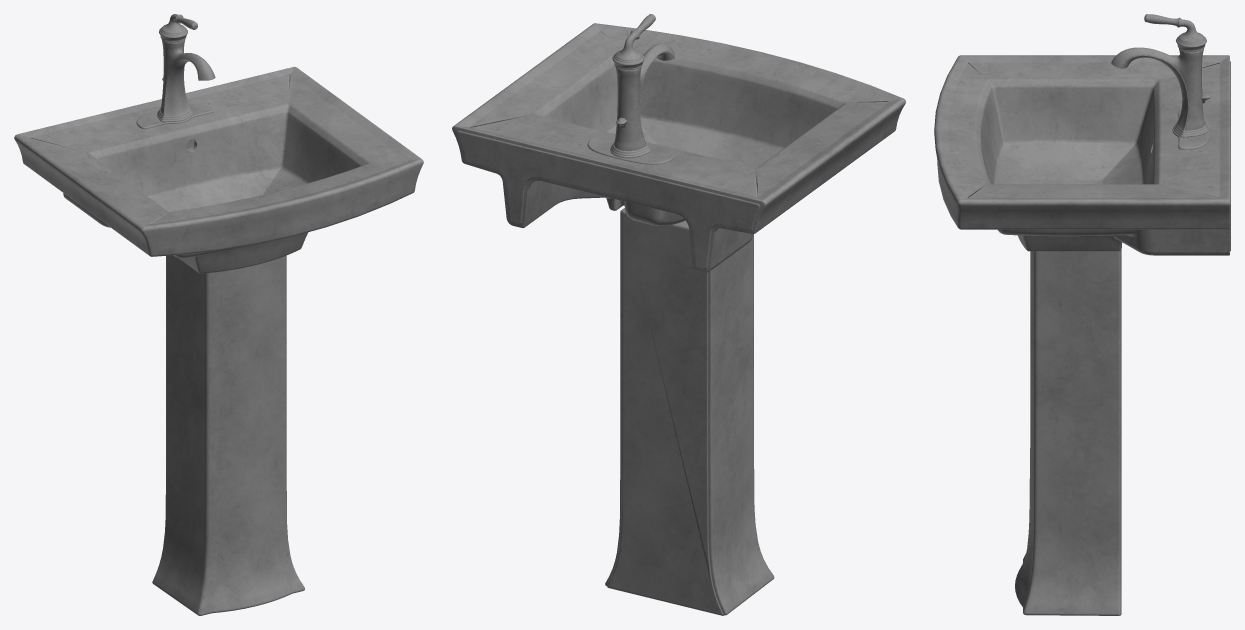
The model's file is umivalnik.fbx.
3 renders of one model, left to right at view 1: azimuth 30°, elevation 25°; view 2: azimuth 150°, elevation 25°; view 3: azimuth 270°, elevation 25°, orthographic. The views are drawn at different scales.
Parts seen in each view (by area): view 1: Sink_obj_cleaner_materialmerger_gles; view 2: Sink_obj_cleaner_materialmerger_gles; view 3: Sink_obj_cleaner_materialmerger_gles.
Part boxes in pixels (<box>): Sink_obj_cleaner_materialmerger_gles: <box>14,14,423,615</box>; Sink_obj_cleaner_materialmerger_gles: <box>452,14,905,615</box>; Sink_obj_cleaner_materialmerger_gles: <box>934,14,1230,615</box>.
Bounding box in the file's own units: 140 × 255 × 119.
